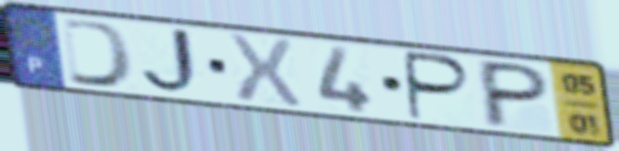4: (314, 43, 377, 117)
D: (58, 16, 139, 91)
J: (138, 26, 209, 97)
P: (480, 57, 553, 131), (404, 49, 476, 124)
X: (223, 30, 306, 109)
